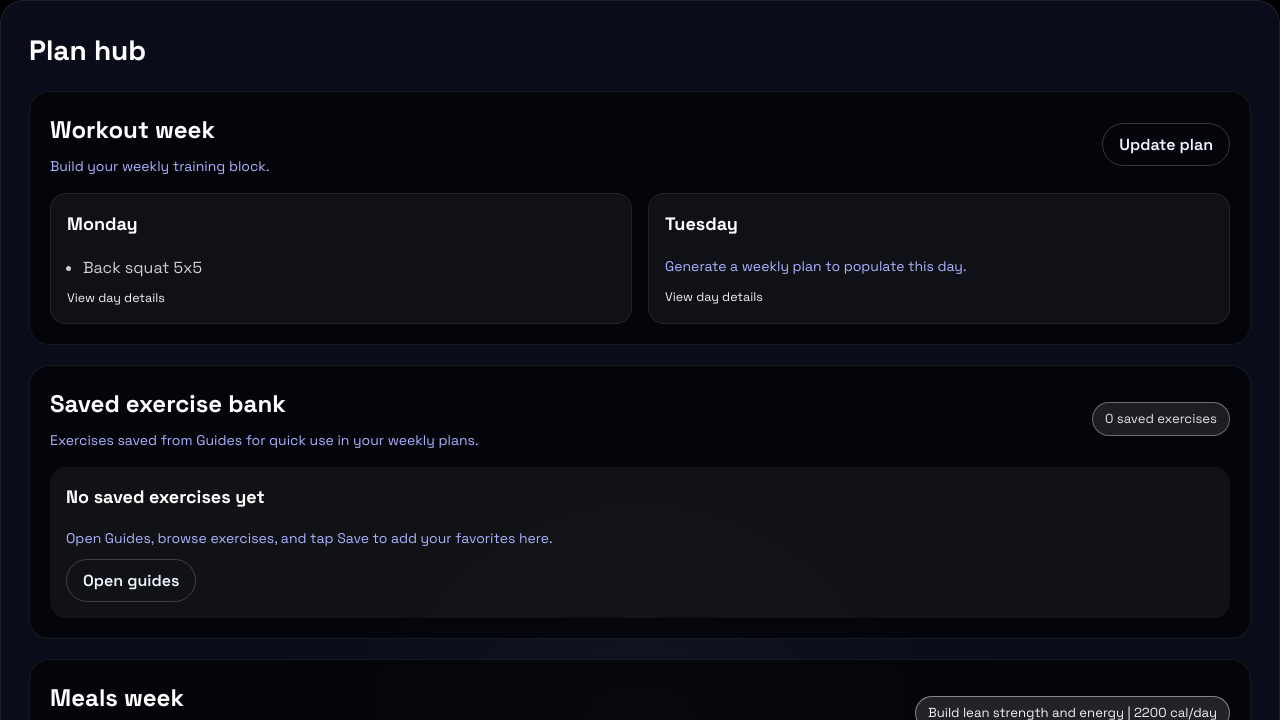
Test: PlansView › the day detail › Escape closes it
The width and height of the screenshot is (1280, 720).
Click the button with class "hub-card-button" that starts with "Monday" at (102, 224), box [50, 193, 632, 324]
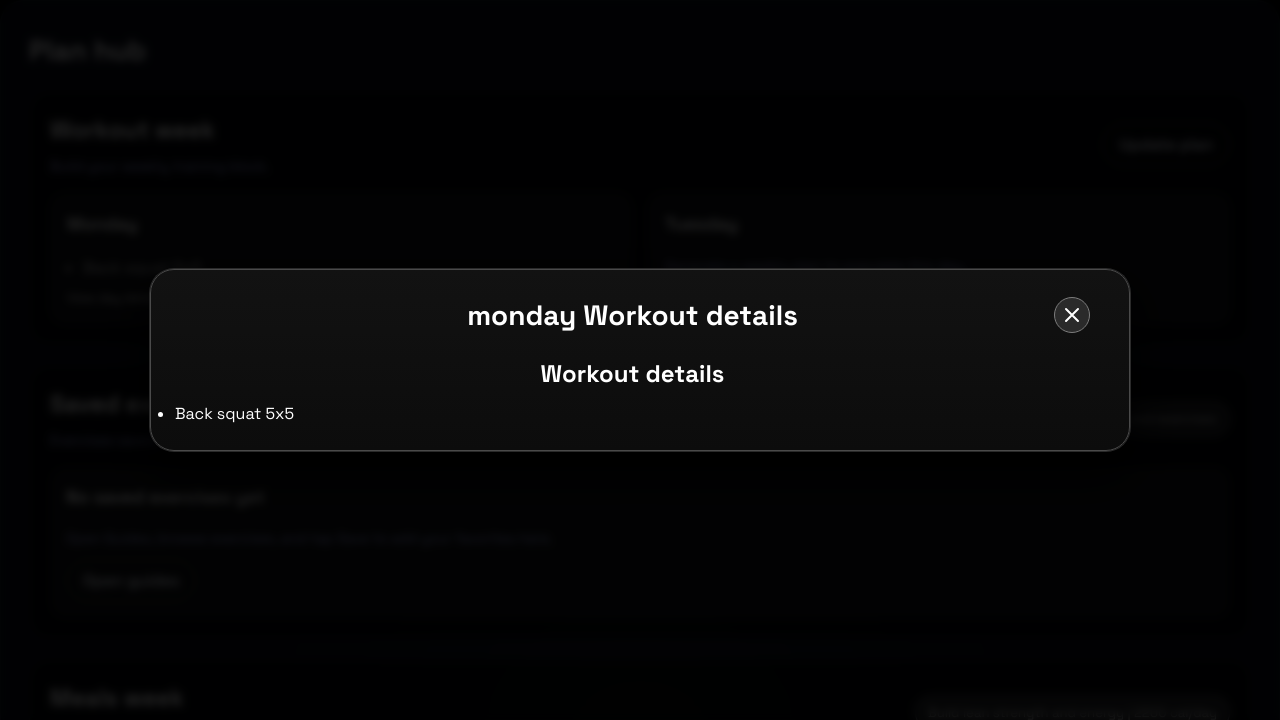
Check: the dialog is shown
Press Escape
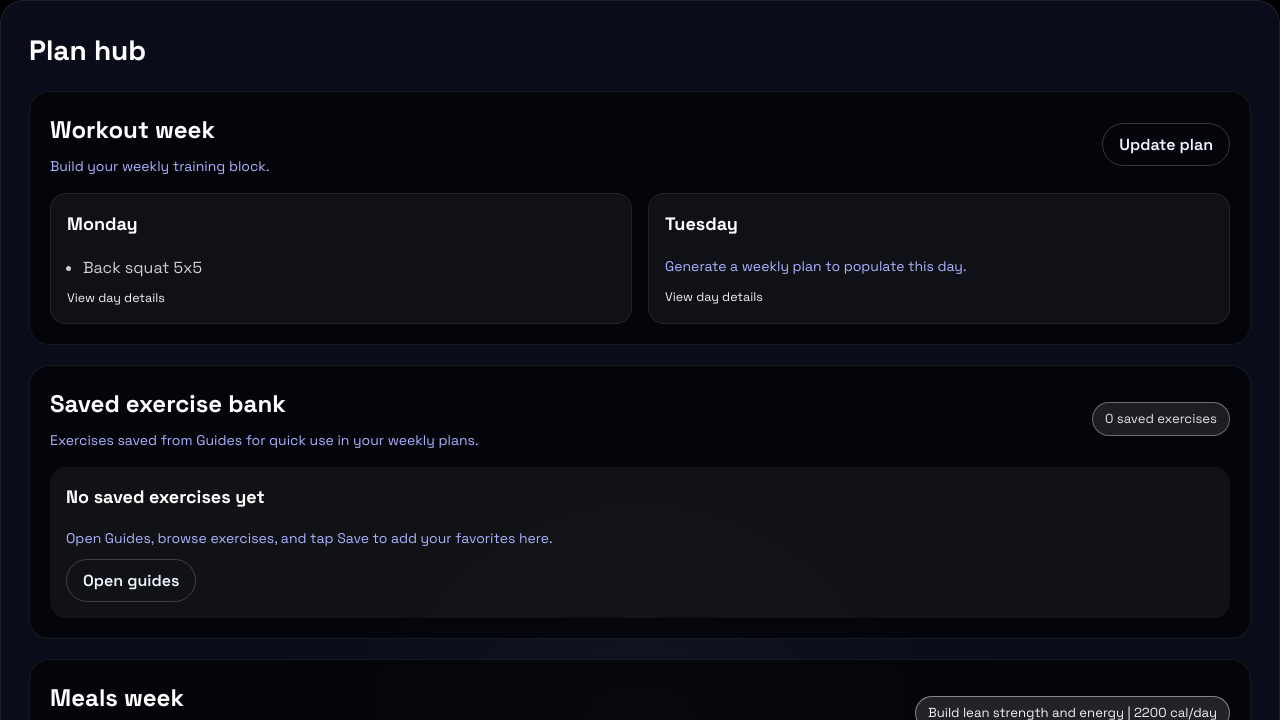
Check: the dialog is gone
